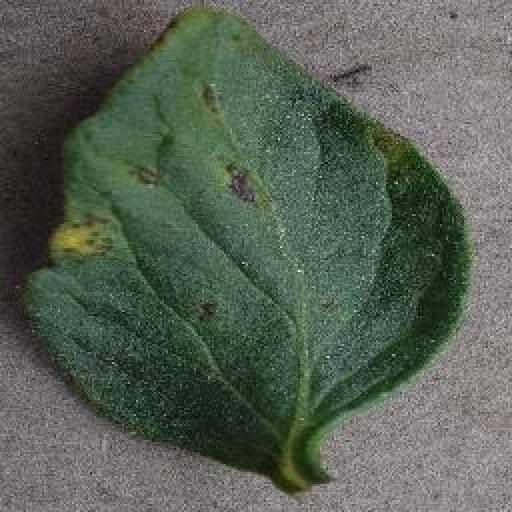Bacterial Spot: (26, 0, 470, 480)
